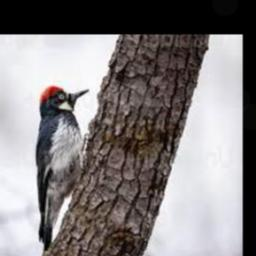Woodpecker: (36, 85, 90, 252)
